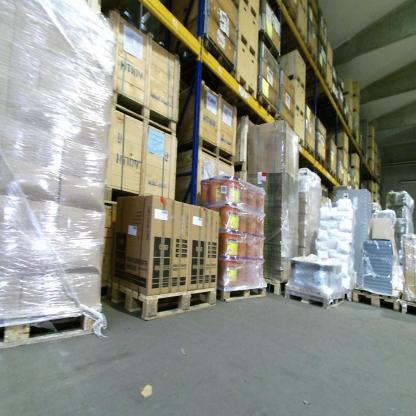pallet: (0, 300, 111, 355), (111, 276, 217, 319), (163, 30, 234, 91), (282, 277, 343, 310), (353, 278, 400, 314), (215, 275, 267, 304), (260, 265, 292, 304), (257, 88, 280, 123), (260, 29, 281, 66), (399, 286, 415, 320), (297, 45, 320, 68), (281, 1, 298, 29), (340, 283, 356, 303), (308, 3, 321, 26), (313, 63, 326, 85), (319, 36, 329, 55), (306, 140, 316, 158), (316, 149, 326, 166), (326, 166, 336, 183), (337, 171, 344, 187), (331, 91, 338, 106), (338, 81, 345, 94), (339, 103, 344, 118), (343, 113, 349, 125), (352, 130, 357, 142), (333, 76, 338, 88)
